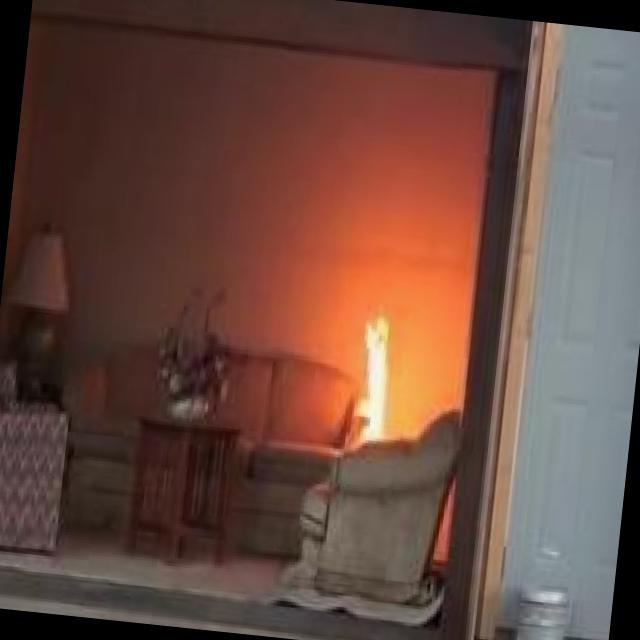fire: (339, 302, 430, 449)
